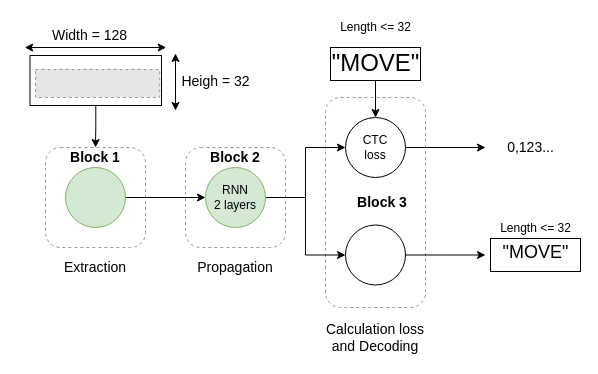
Some shapes in this 598 by 374 pixel diagram are drawn without their labels. Grey dashed boxes stand in for pictures. Here are the shapes that lost their labels. From the top down, the centre of each, then its label:
point (95, 197): CNN 5 layers
point (375, 254): CTC decode
